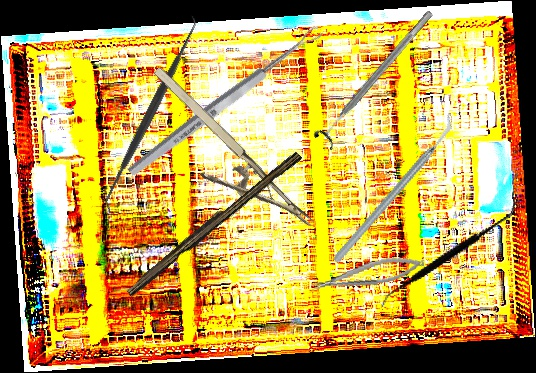Chopper: (298, 112, 489, 265)
Fixation Ring: (311, 3, 441, 152)
Needle Holder: (127, 62, 316, 258), (308, 252, 427, 296)
Scalpel Handle: (123, 146, 303, 300)
Spatula Surgical: (91, 13, 210, 215), (379, 168, 518, 340)
Surgical Spoon: (125, 23, 325, 180)
